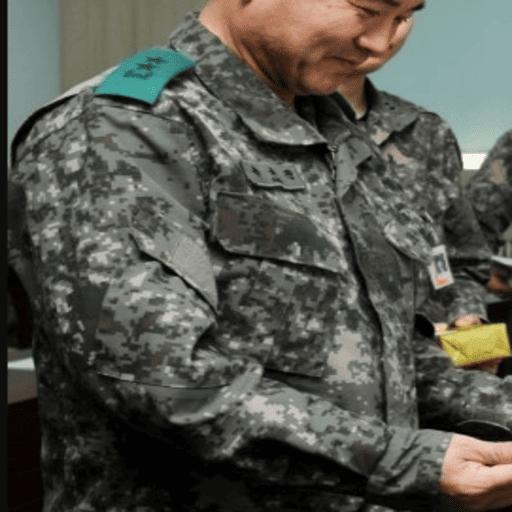korea army: (7, 0, 511, 511)
